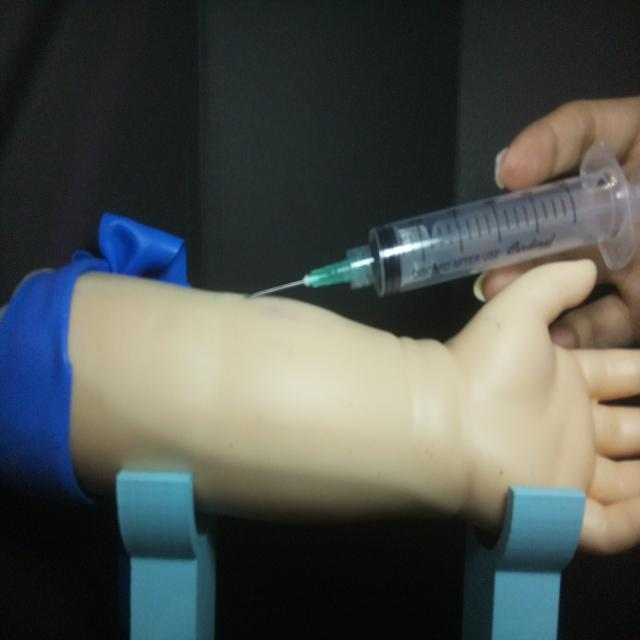20deg: (243, 137, 636, 306)
